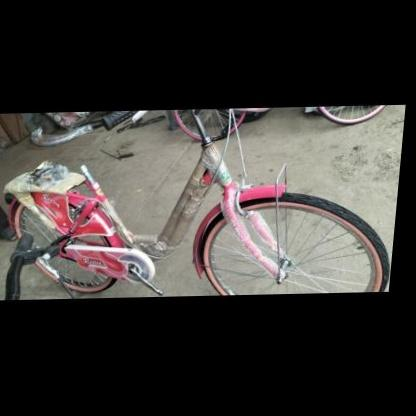Bicycle: (2, 109, 396, 296)
